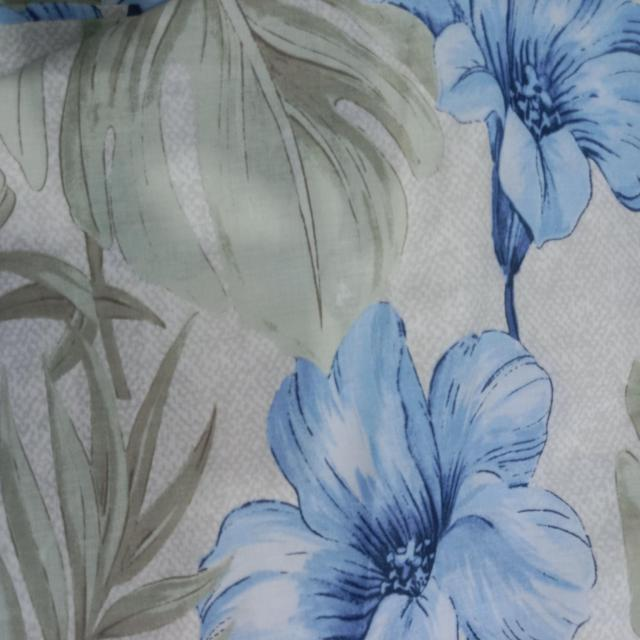baekra: (12, 60, 305, 620)
